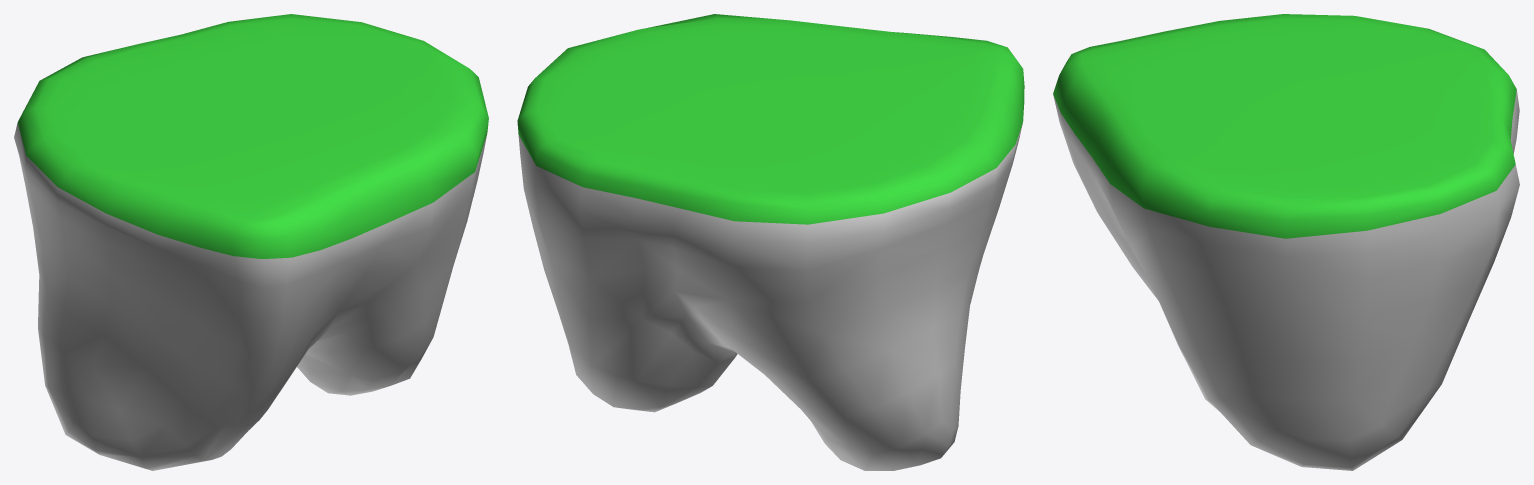
The model's file is platform_l_7_02.fbx.
The picture shows the model from 3 angles, left to right: view 1: azimuth 30°, elevation 25°; view 2: azimuth 150°, elevation 25°; view 3: azimuth 270°, elevation 25°; orthographic projection. The views are drawn at different scales.
Parts seen in each view (by area): view 1: platform_r_07; view 2: platform_r_07; view 3: platform_r_07.
Boxes of the visible parts, x1,y1,x2,y2 form: platform_r_07: (14,14,488,470); platform_r_07: (517,14,1024,470); platform_r_07: (1053,14,1519,470).
Size of the model in its own units: 9.59 by 6.86 by 9.19.
